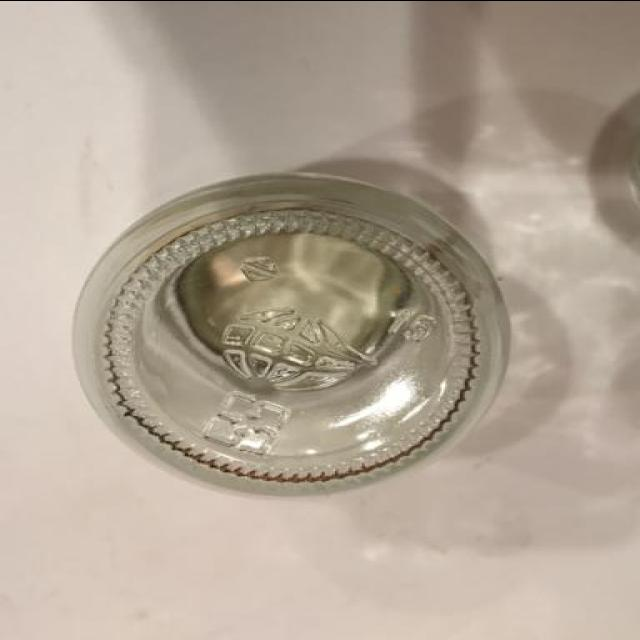litter: (65, 172, 517, 498)
